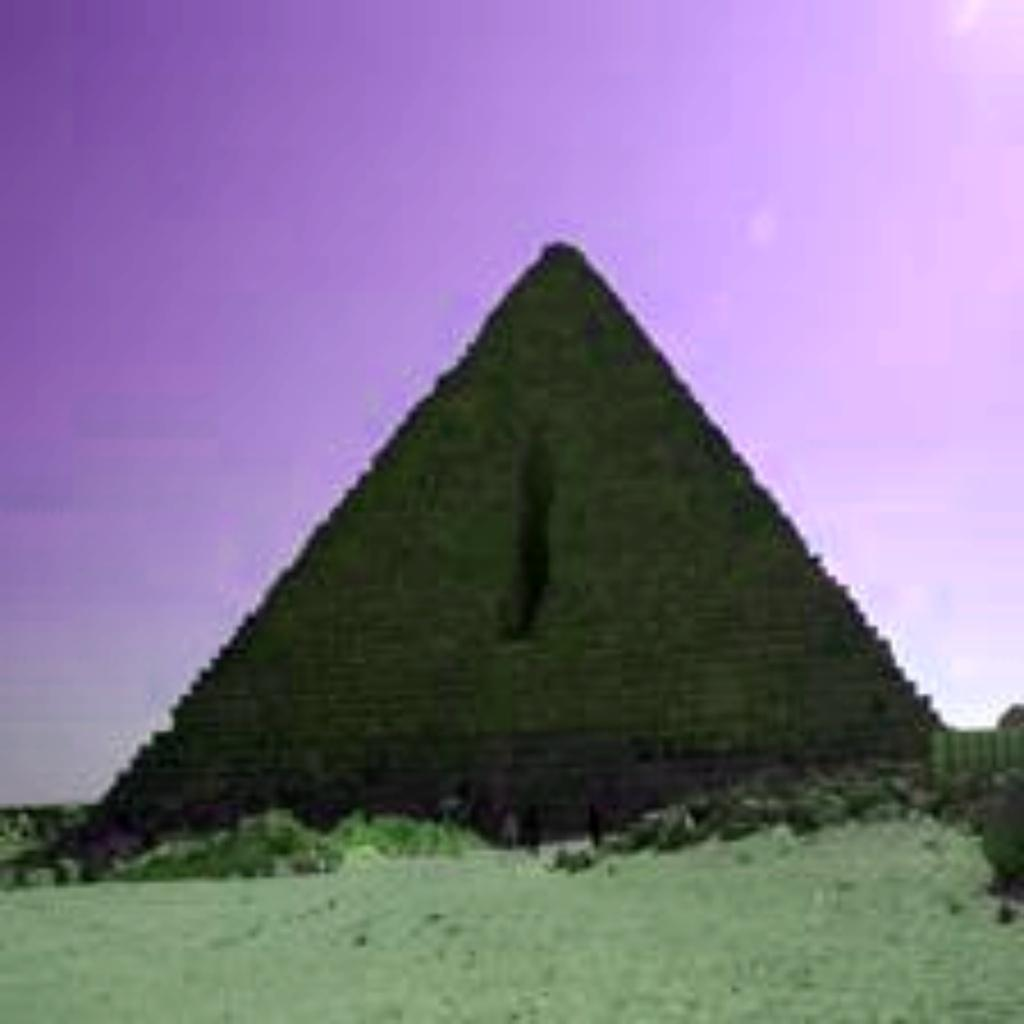Great Pyramids of Giza: (73, 228, 951, 868)
